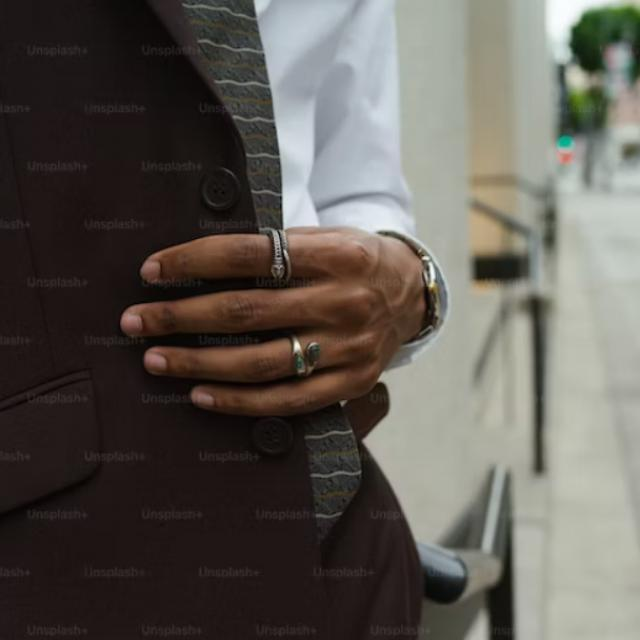Watch: (380, 223, 452, 346)
